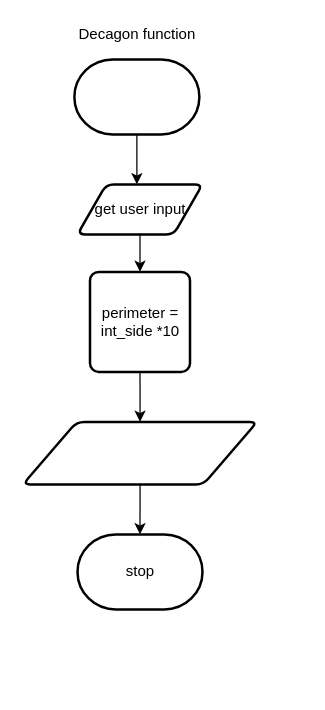
Image size: 325x710. Some labels were removed from this diagram. The centre of each missing label's shape, as x and y in pixels:
print("The perimeter is: {0} cm.".format(perimeter)): (139,452)
start: (136,96)
